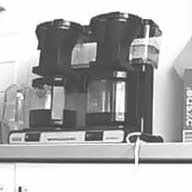not empty coffee: (83, 69, 143, 130)
